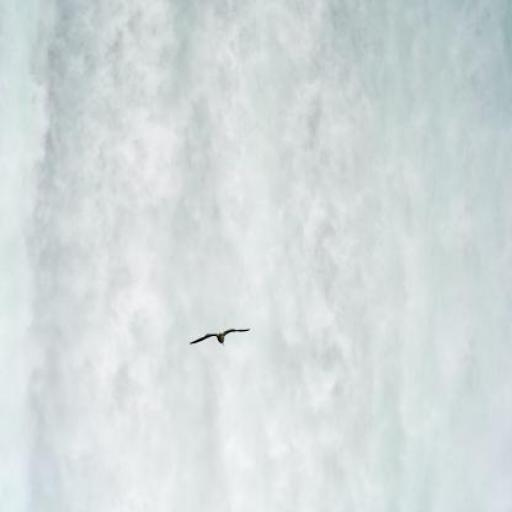bird: (191, 329, 251, 347)
